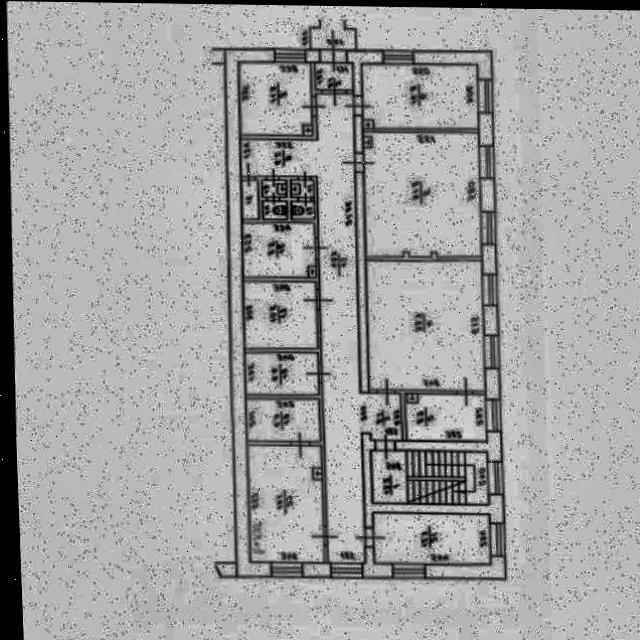room: (228, 87, 427, 571), (365, 257, 482, 392), (362, 129, 479, 257), (248, 442, 323, 564), (359, 63, 476, 127), (370, 449, 488, 502), (373, 512, 490, 562), (238, 60, 310, 134), (243, 280, 316, 346), (241, 221, 314, 276), (405, 393, 487, 439), (244, 351, 319, 394), (246, 397, 320, 439), (313, 63, 352, 88), (241, 179, 256, 217), (261, 200, 284, 217), (261, 179, 284, 195), (289, 179, 311, 195), (290, 201, 312, 215)
